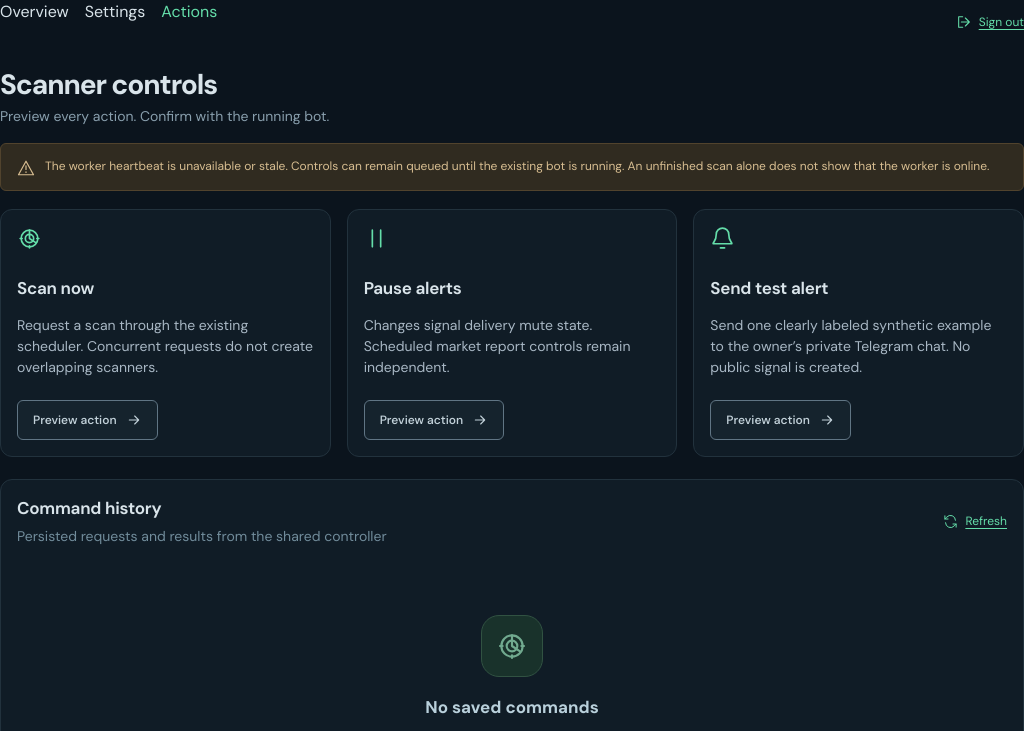
traps keyboard focus in the preview and allows Escape cancellation
Expected: the heading "Scanner controls" is shown, [0,66,217,103]
Click the button "Preview action" below "Scan now" at (87,420), box [17,400,158,440]
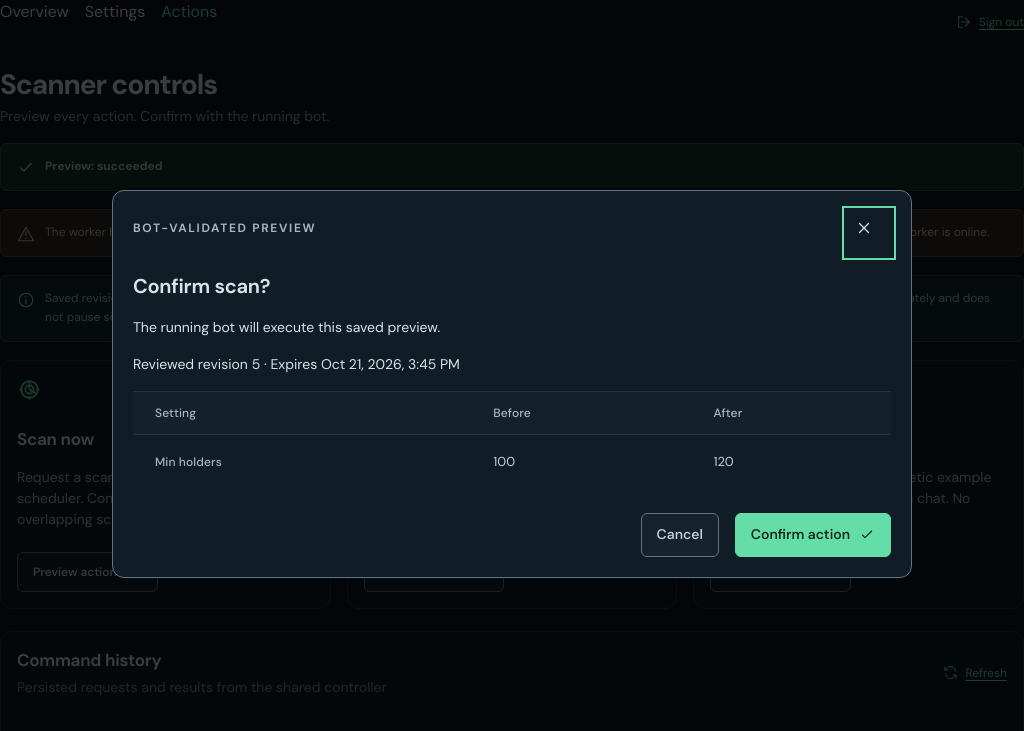
Press Tab in the button named "Close preview", box [847,211,891,255]
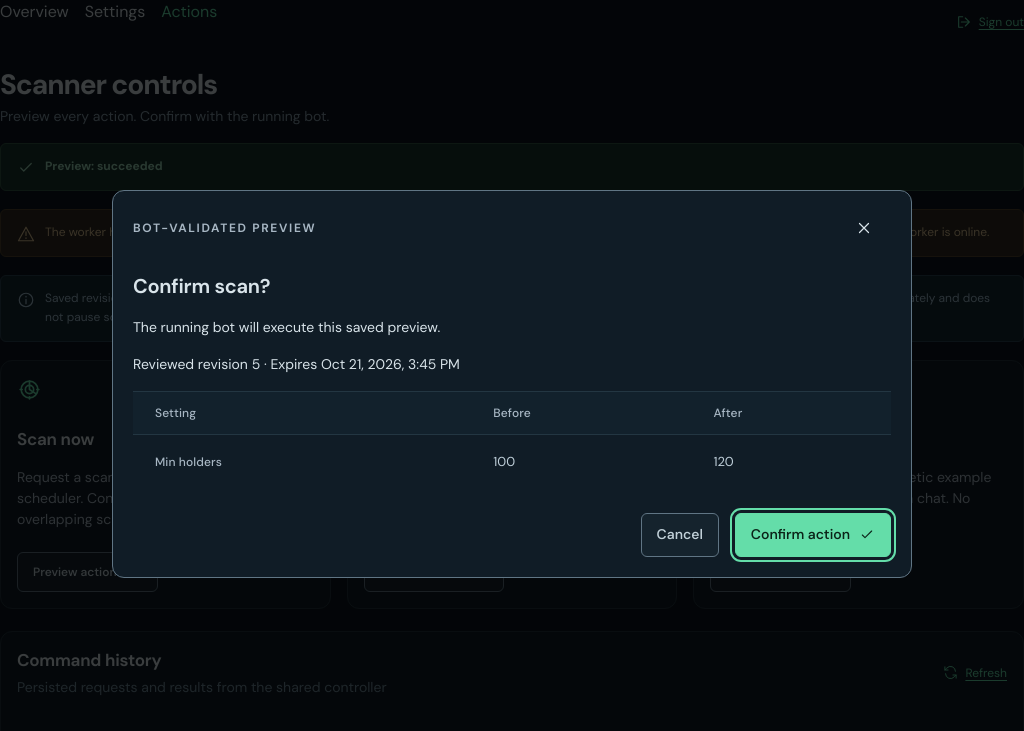
Press Tab in the button "Confirm action", box [735,513,891,557]
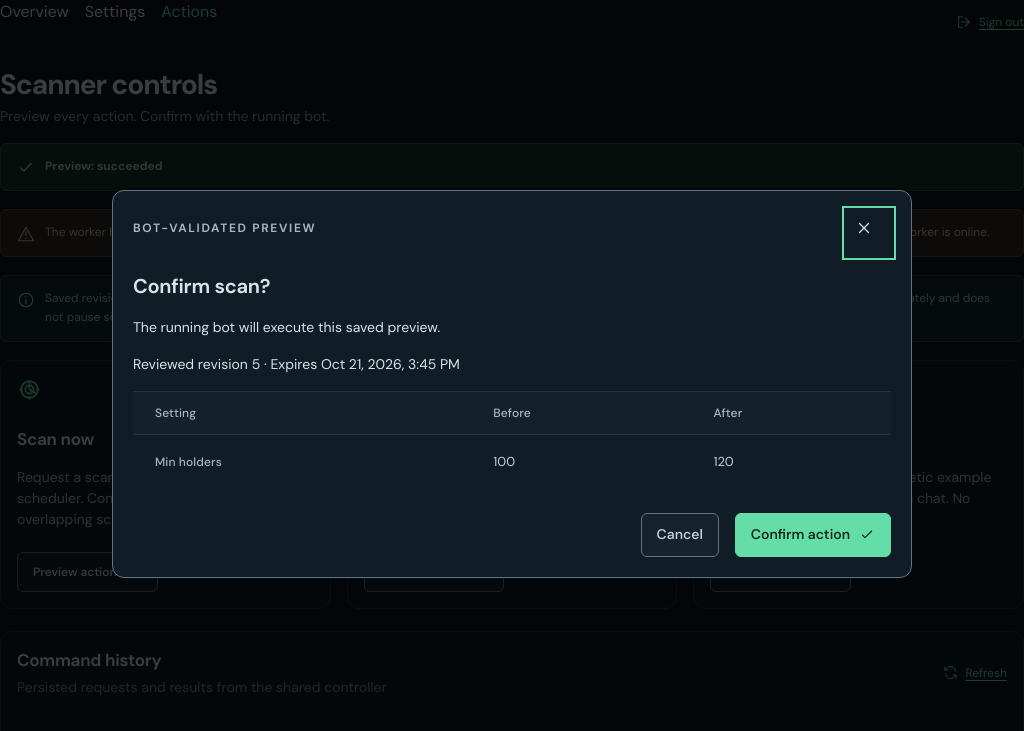
Press Escape in the button named "Close preview", box [847,211,891,255]
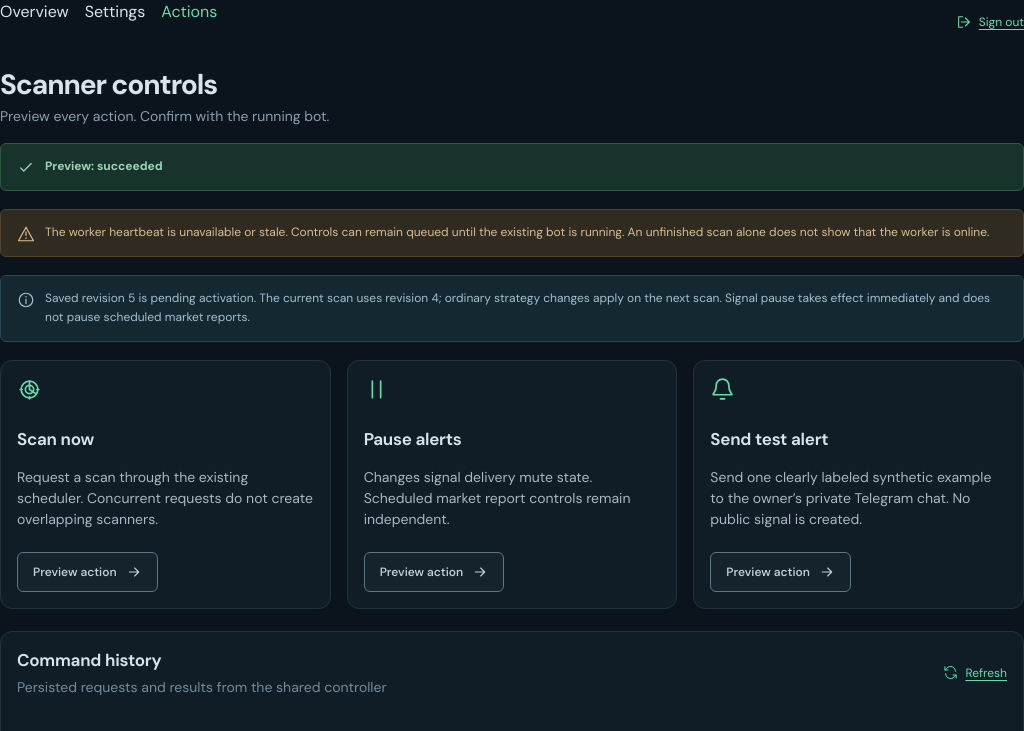
Expected: the dialog is gone
